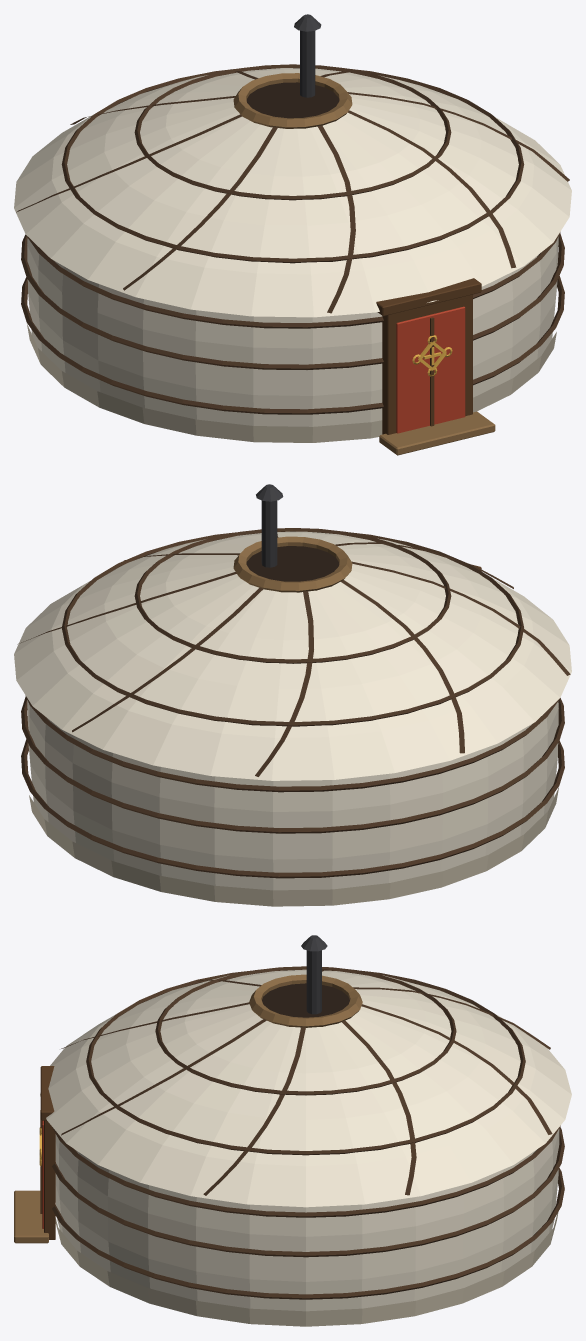
Rendered from ger.glb.
3 views of the same model, one above another, from view 1: azimuth 30°, elevation 25°; view 2: azimuth 150°, elevation 25°; view 3: azimuth 270°, elevation 25° (orthographic). The views are drawn at different scales.
Visible parts, largest first — view 1: ger; view 2: ger; view 3: ger.
Part boxes in pixels (box(x1,y1,x2,y2)): ger: box(14, 14, 571, 455); ger: box(14, 484, 571, 906); ger: box(14, 935, 571, 1326).
Size of the model in its own units: 6.36 by 3.86 by 6.67.
